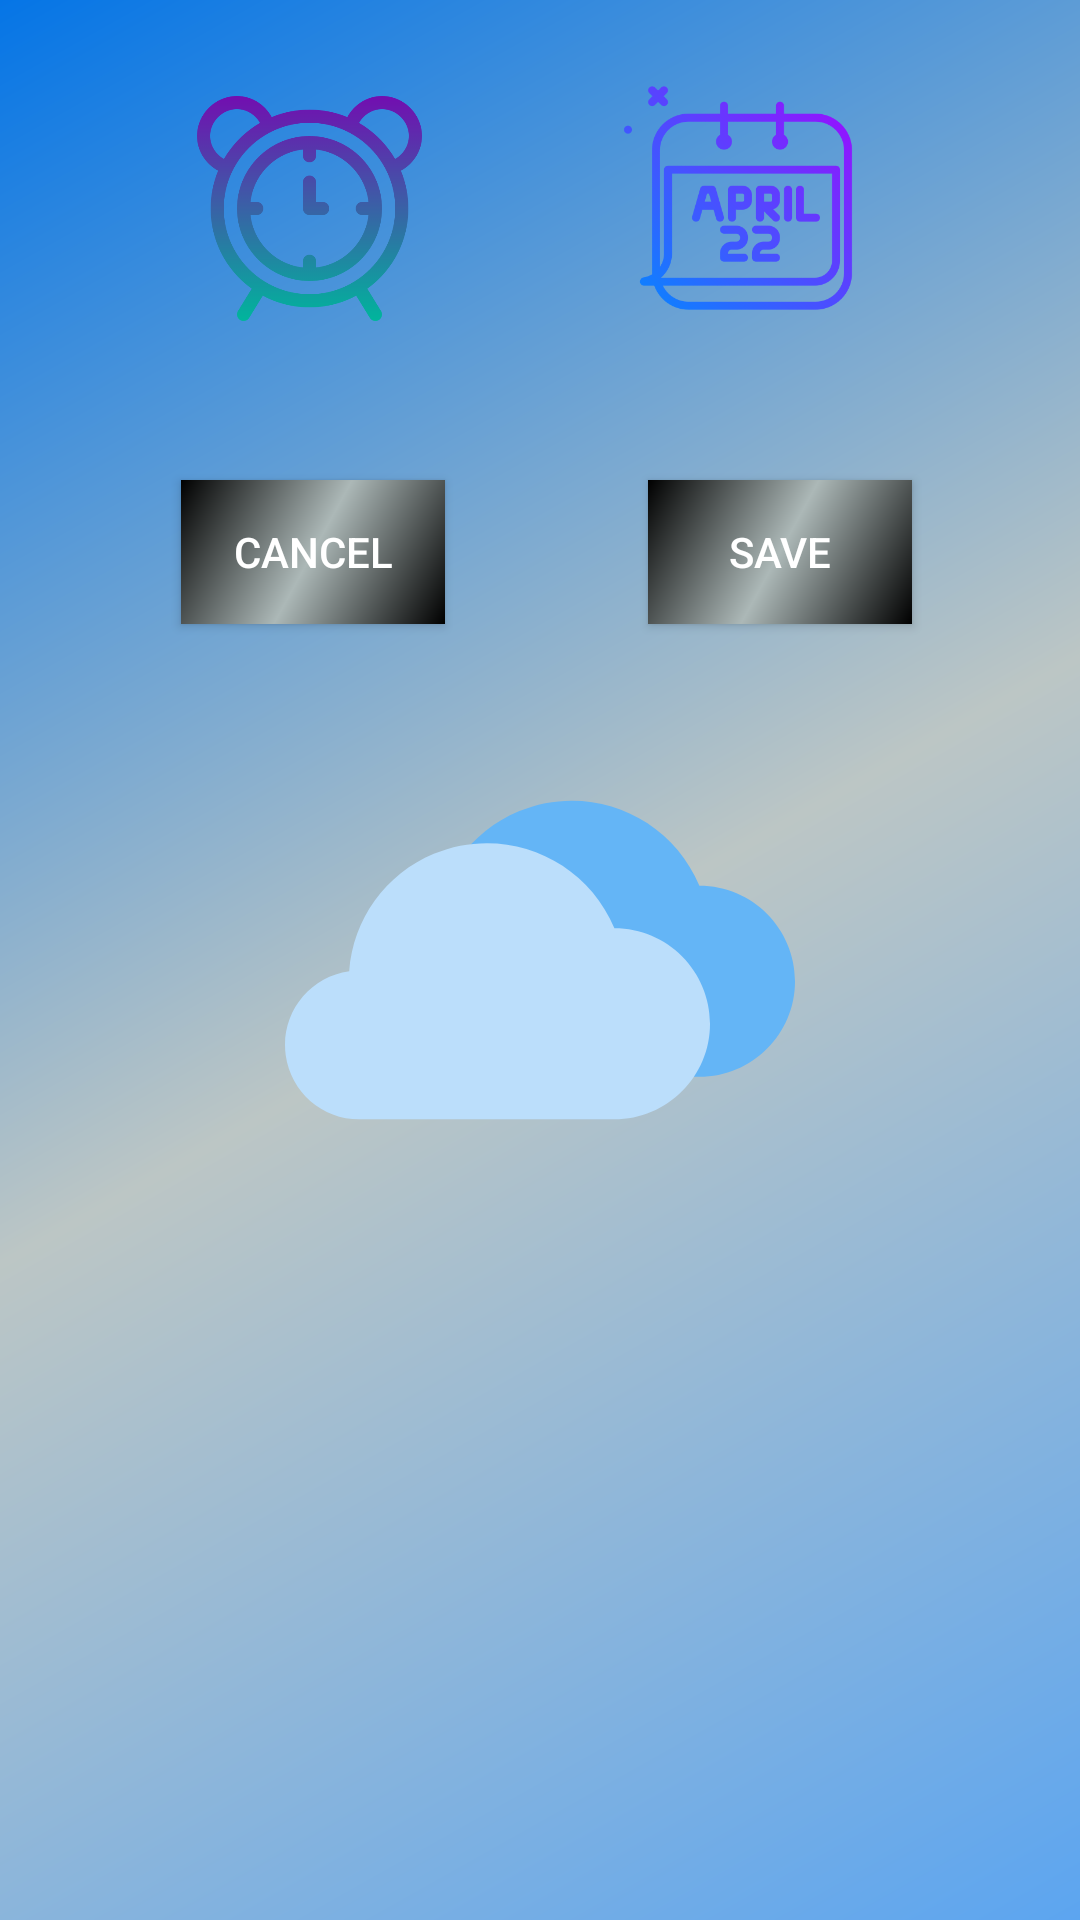

Point at icon controls on the screen. Image size 1080*1920, points as point (x, y).
alarm: point (309, 208)
calendar: point (738, 198)
